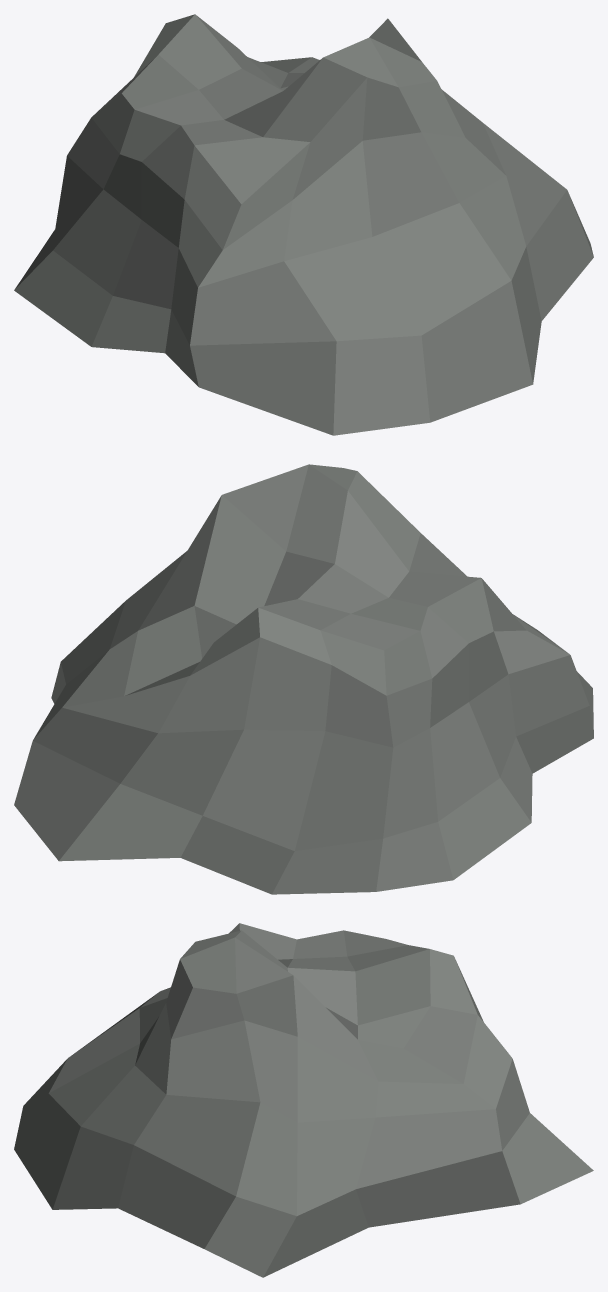
The model's file is Rock_03.fbx.
3 views of the same model, one above another, from view 1: azimuth 30°, elevation 25°; view 2: azimuth 150°, elevation 25°; view 3: azimuth 270°, elevation 25° (orthographic). The views are drawn at different scales.
Parts seen in each view (by area): view 1: Rock_03; view 2: Rock_03; view 3: Rock_03.
Boxes of the visible parts, <box> form: Rock_03: <box>14,14,593,435</box>; Rock_03: <box>14,464,593,894</box>; Rock_03: <box>14,923,593,1277</box>.
Size of the model in its own units: 471 by 263 by 559.
